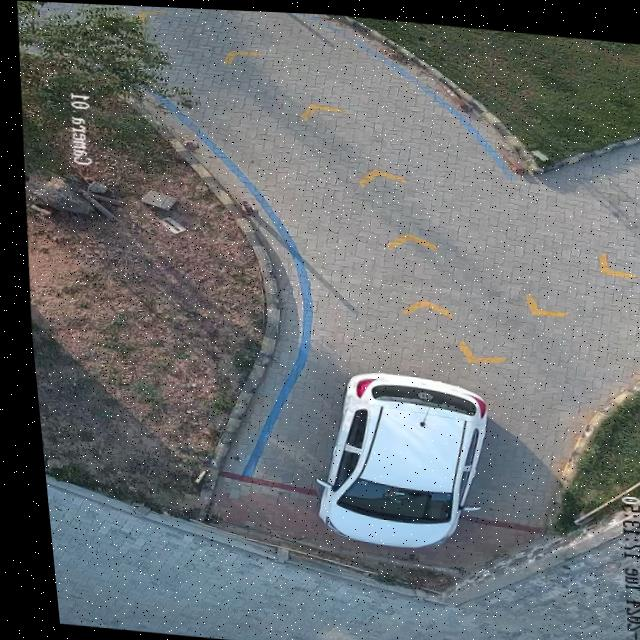car: (307, 369, 477, 547)
